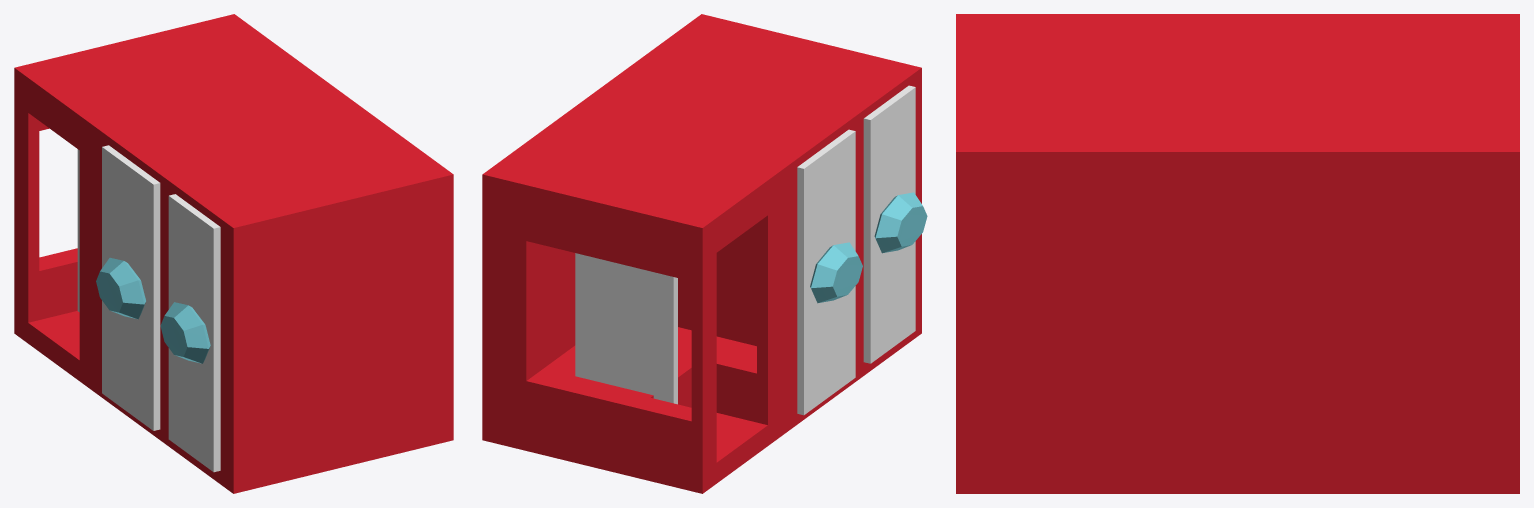
Rendered from tinker.obj.
3 renders of one model, left to right at view 1: azimuth 30°, elevation 25°; view 2: azimuth 150°, elevation 25°; view 3: azimuth 270°, elevation 25°, orthographic. The views are drawn at different scales.
Parts seen in each view (by area): view 1: group_0_15277357, group_0_16448250, group_0_7720667; view 2: group_0_15277357, group_0_16448250, group_0_7720667; view 3: group_0_15277357.
Boxes of the visible parts, bbox=[...] form: group_0_15277357: bbox=[14, 14, 453, 493]; group_0_16448250: bbox=[77, 145, 220, 472]; group_0_7720667: bbox=[96, 257, 210, 363]; group_0_15277357: bbox=[482, 14, 921, 493]; group_0_16448250: bbox=[575, 85, 915, 415]; group_0_7720667: bbox=[810, 192, 927, 303]; group_0_15277357: bbox=[956, 14, 1519, 493].
Bounding box in the file's own units: 14.15 × 14.61 × 21.83.
